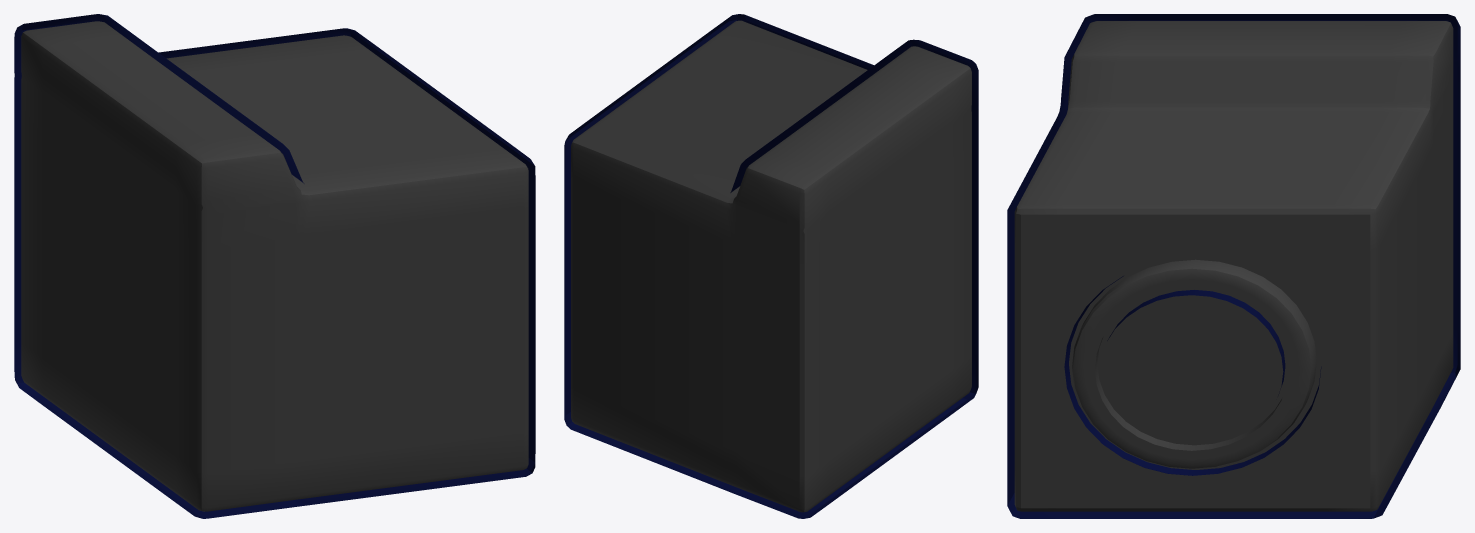
3 renders of one model, left to right at view 1: azimuth 30°, elevation 25°; view 2: azimuth 150°, elevation 25°; view 3: azimuth 270°, elevation 25°, orthographic. The views are drawn at different scales.
Visible parts, largest first — view 1: Washer; view 2: Washer; view 3: Washer.
Part boxes in pixels (x1,y1,x2,y2): Washer: [14, 14, 535, 518]; Washer: [564, 14, 978, 518]; Washer: [1007, 14, 1460, 518].
Size of the model in its own units: 0.8451 by 0.9163 by 1.03.
